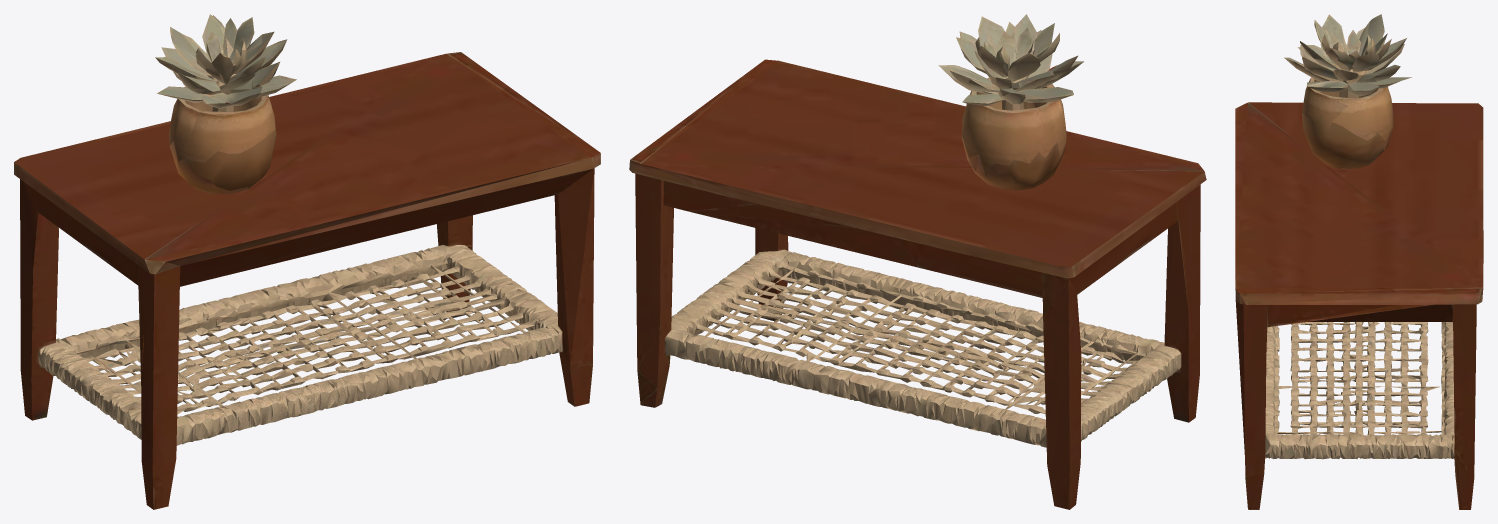
Rendered from side-table-v1.glb.
The picture shows the model from 3 angles, left to right: view 1: azimuth 30°, elevation 25°; view 2: azimuth 150°, elevation 25°; view 3: azimuth 270°, elevation 25°; orthographic projection. The views are drawn at different scales.
Size of the model in its own units: 1.3 by 1.11 by 0.7077.
1 material, 1 textured.
